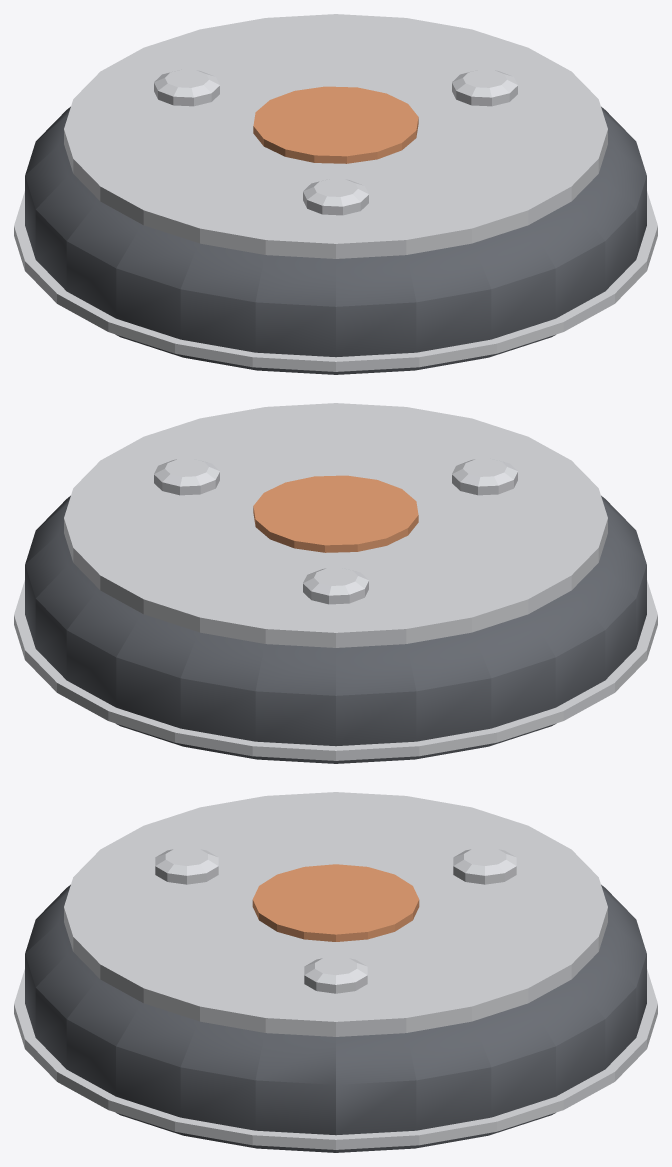
The model's file is downtown-office-interiors-speakerphone-puck-131e5d4e__17027.glb.
3 views of the same model, one above another, from view 1: azimuth 30°, elevation 25°; view 2: azimuth 150°, elevation 25°; view 3: azimuth 270°, elevation 25° (orthographic).
Parts seen in each view (by area): view 1: speakerphone-puck; view 2: speakerphone-puck; view 3: speakerphone-puck.
Part boxes in pixels (x1,y1,x2,y2): speakerphone-puck: (14,14,657,374); speakerphone-puck: (14,403,657,763); speakerphone-puck: (14,792,657,1152).
Size of the model in its own units: 0.232 by 0.052 by 0.232.
